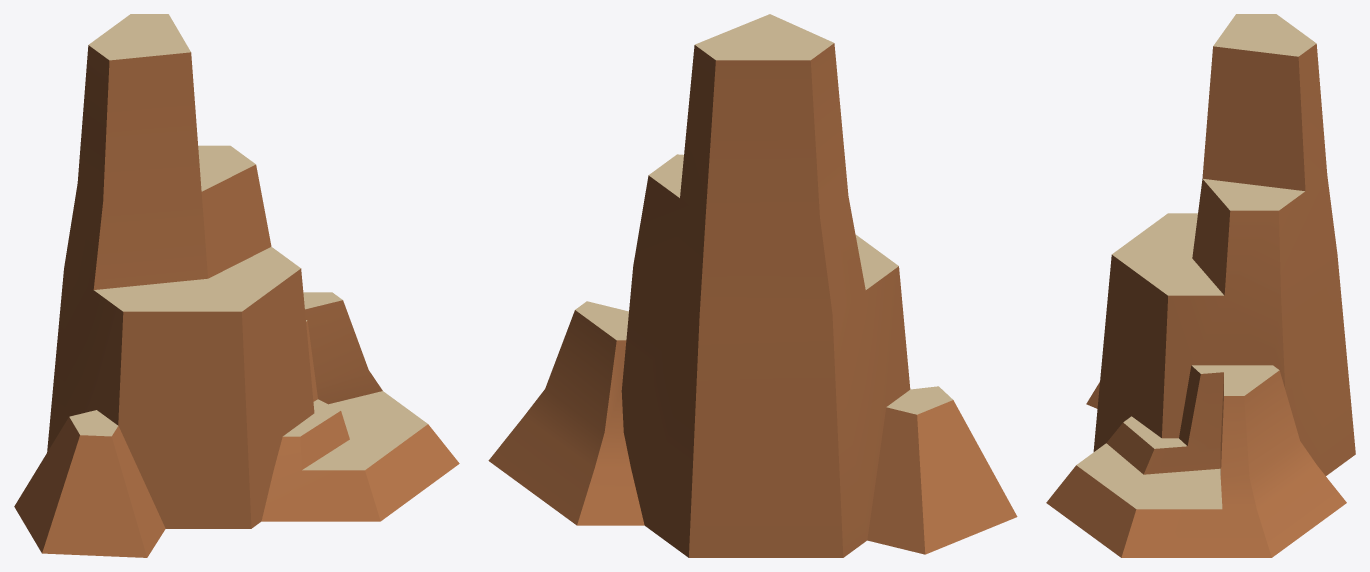
File: formationLarge_rock.fbx
3 views of the same model, side by side, from view 1: azimuth 30°, elevation 25°; view 2: azimuth 150°, elevation 25°; view 3: azimuth 270°, elevation 25° (orthographic). The views are drawn at different scales.
Visible parts, largest first — view 1: formationLarge_rock; view 2: formationLarge_rock; view 3: formationLarge_rock.
Boxes of the visible parts, x1,y1,x2,y2 form: formationLarge_rock: (14, 14, 459, 557); formationLarge_rock: (488, 14, 1017, 557); formationLarge_rock: (1046, 14, 1355, 557).
Bounding box in the file's own units: 13.62 × 13.8 × 9.47.
